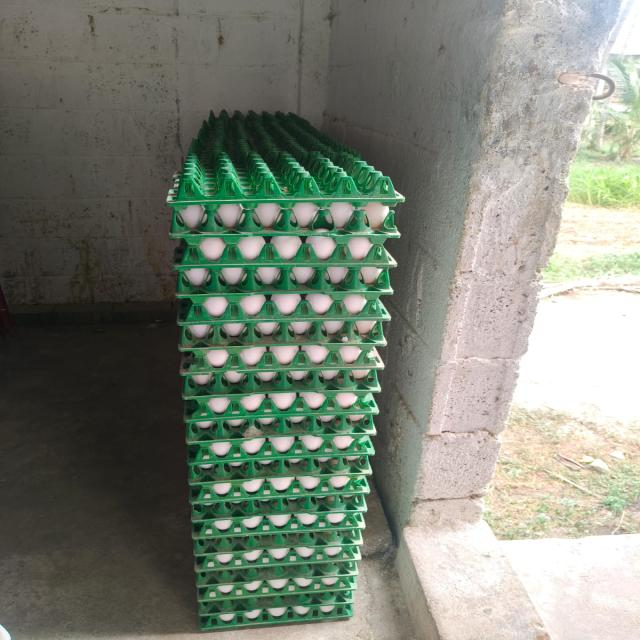egg_tray: (167, 111, 404, 208), (189, 392, 377, 496), (181, 343, 382, 417), (179, 301, 388, 370), (174, 236, 395, 301), (191, 457, 369, 537), (180, 342, 383, 410), (186, 391, 375, 464), (181, 343, 382, 411), (173, 236, 396, 294), (194, 496, 365, 568), (178, 294, 390, 352), (195, 529, 361, 599), (187, 434, 374, 496), (173, 234, 396, 285), (180, 330, 382, 384), (180, 344, 383, 397), (185, 371, 379, 426), (192, 477, 366, 538), (177, 291, 389, 341), (178, 288, 383, 336), (186, 414, 375, 466), (187, 416, 375, 466), (180, 344, 383, 390), (188, 416, 374, 465), (169, 200, 399, 239), (189, 456, 370, 505), (196, 561, 357, 615), (197, 562, 357, 614), (179, 316, 386, 356), (177, 264, 393, 302), (192, 494, 365, 539), (183, 369, 380, 408), (189, 455, 371, 497), (184, 389, 378, 428), (192, 495, 366, 538), (183, 390, 378, 428), (186, 416, 375, 454), (191, 492, 366, 532), (194, 532, 361, 572), (194, 530, 361, 570), (194, 546, 361, 586), (196, 561, 358, 602), (188, 433, 374, 468), (196, 561, 358, 601), (193, 528, 362, 566), (194, 529, 362, 565), (189, 475, 370, 508), (198, 587, 355, 622), (198, 570, 356, 603), (199, 589, 353, 616), (200, 604, 353, 630), (225, 512, 364, 538), (192, 519, 228, 538), (299, 395, 321, 409), (315, 600, 332, 613), (245, 605, 259, 620), (258, 271, 276, 282), (259, 324, 275, 336), (201, 238, 223, 246), (307, 396, 320, 409), (210, 402, 225, 413), (339, 395, 351, 408), (210, 403, 225, 413), (277, 396, 292, 406), (241, 400, 254, 411), (306, 440, 322, 448), (274, 478, 284, 490), (269, 608, 281, 618), (274, 480, 284, 490), (271, 608, 281, 615), (334, 304, 342, 312), (303, 520, 313, 525), (220, 578, 230, 583), (215, 593, 224, 598), (187, 401, 191, 412), (315, 583, 321, 590), (358, 478, 364, 484), (179, 311, 184, 318), (314, 482, 319, 489), (278, 305, 283, 312), (296, 328, 304, 332), (259, 559, 265, 564), (225, 616, 230, 622), (189, 247, 195, 252), (330, 550, 335, 555), (231, 406, 236, 411), (197, 376, 203, 380), (383, 309, 387, 315), (333, 374, 337, 380), (223, 500, 229, 504), (223, 538, 229, 542), (329, 330, 336, 333), (331, 272, 338, 275), (245, 433, 250, 437), (281, 362, 290, 364), (279, 545, 285, 548), (262, 420, 268, 423), (249, 554, 255, 557), (298, 520, 302, 524), (307, 366, 311, 370), (225, 616, 229, 620), (255, 432, 260, 435), (391, 201, 394, 206), (290, 483, 293, 488), (351, 302, 356, 305), (207, 334, 210, 339), (327, 366, 334, 368), (232, 309, 234, 316), (335, 278, 339, 281), (289, 500, 295, 502), (350, 298, 356, 300), (216, 495, 219, 499), (362, 330, 367, 332), (186, 309, 188, 314), (265, 500, 270, 502), (274, 413, 279, 415), (210, 596, 213, 599), (331, 580, 334, 583), (253, 536, 256, 539), (251, 554, 254, 557), (211, 466, 214, 469), (320, 504, 324, 506), (343, 488, 347, 490), (260, 414, 264, 416), (281, 310, 285, 312), (234, 350, 237, 352), (204, 319, 207, 321), (375, 301, 378, 303), (204, 506, 207, 508), (269, 504, 272, 506), (316, 500, 319, 502), (323, 498, 326, 500), (280, 407, 286, 408), (354, 569, 356, 572), (254, 414, 257, 416), (262, 323, 267, 324), (201, 559, 202, 564), (344, 587, 348, 588), (277, 483, 281, 484), (301, 364, 303, 366), (330, 394, 332, 396), (223, 538, 227, 539), (177, 173, 179, 175), (250, 616, 252, 618), (209, 573, 211, 575), (329, 596, 331, 598), (253, 494, 255, 496), (202, 492, 204, 494), (305, 491, 307, 493), (326, 419, 328, 421), (333, 282, 336, 283), (354, 527, 357, 528), (281, 351, 284, 352), (267, 357, 268, 360), (326, 498, 329, 499), (192, 514, 193, 517), (211, 574, 214, 575), (256, 500, 259, 501), (332, 489, 335, 490), (302, 368, 304, 369), (233, 421, 235, 422), (263, 589, 265, 590), (285, 313, 287, 314), (276, 298, 277, 300), (209, 609, 210, 611), (259, 500, 261, 501), (194, 418, 196, 419), (266, 416, 268, 417), (340, 412, 341, 414), (256, 369, 257, 370), (265, 585, 266, 586), (318, 387, 319, 388), (307, 545, 308, 546), (229, 474, 230, 475), (354, 338, 355, 339), (323, 487, 324, 488), (308, 392, 314, 392), (363, 296, 363, 297), (195, 536, 198, 536), (254, 530, 254, 532), (382, 308, 383, 308), (327, 492, 328, 492), (192, 488, 193, 488), (301, 396, 305, 396), (272, 510, 273, 510), (307, 501, 308, 501), (281, 498, 281, 499), (242, 594, 244, 594), (238, 590, 240, 590), (292, 585, 292, 587), (330, 579, 330, 579), (294, 307, 294, 308), (396, 200, 396, 202), (290, 403, 290, 405), (254, 623, 254, 623), (212, 492, 213, 492), (192, 501, 194, 501), (334, 403, 334, 404), (231, 596, 232, 596), (327, 548, 328, 548), (344, 239, 346, 239), (368, 412, 368, 412), (316, 332, 317, 332)
